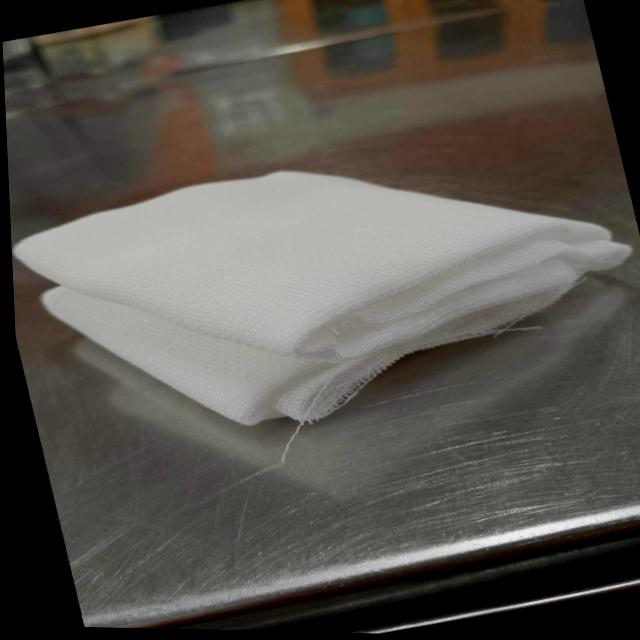General: (4, 1, 639, 637)
Infectious: (13, 166, 633, 429)
Sharps: (6, 3, 510, 123), (348, 575, 640, 636)
